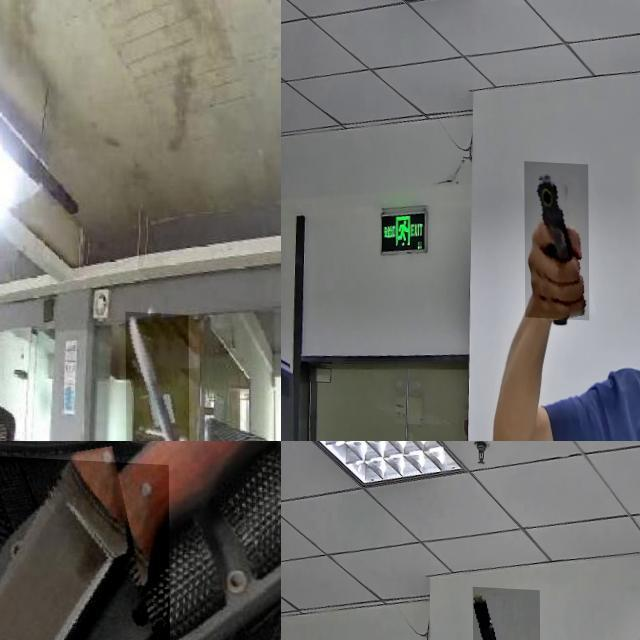-: (0, 446, 183, 640), (124, 308, 188, 441)
gun-knife-thesis - v11 Yolov5 augmented: (524, 158, 588, 317), (472, 583, 540, 640)
